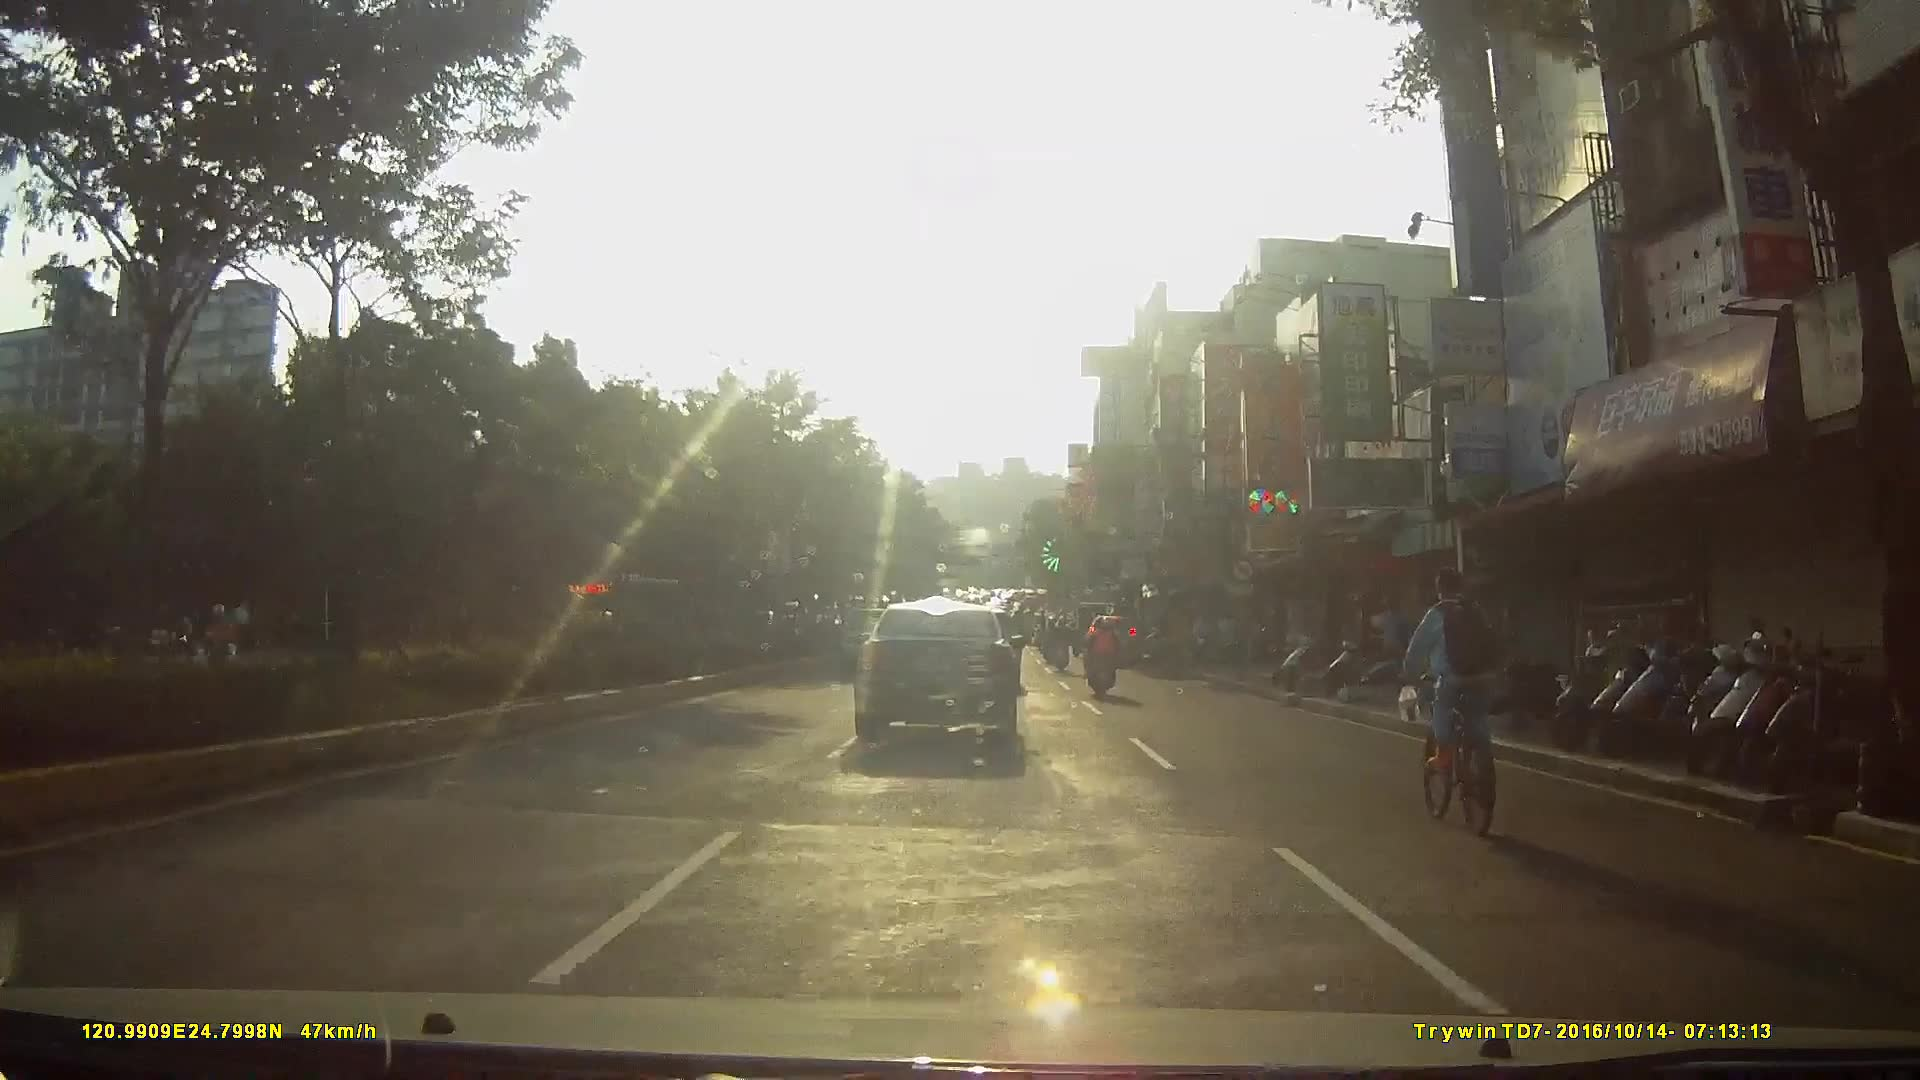rider: (1401, 568, 1503, 836), (189, 602, 241, 688), (1081, 621, 1120, 711), (1046, 617, 1073, 675)
vehicle: (850, 600, 1035, 767), (1081, 608, 1148, 669)
